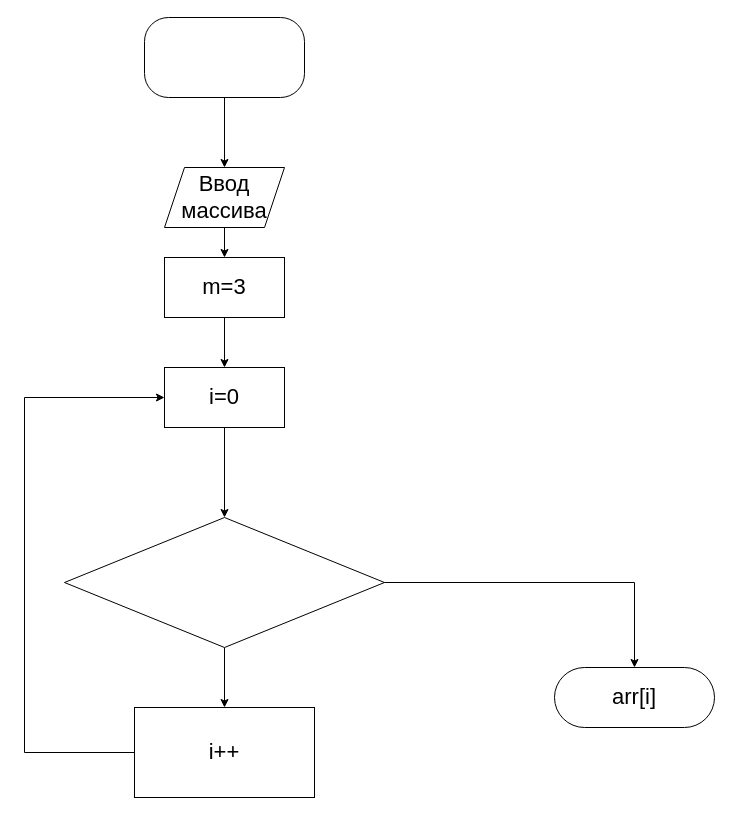
The diagram is 732 pixels wide and 815 high, and some of its shapes have lost their labels. The centre of each missing label's shape, as x and y in pixels:
arr [ i ]. Length < m: [224,582]
Начало: [224,57]
